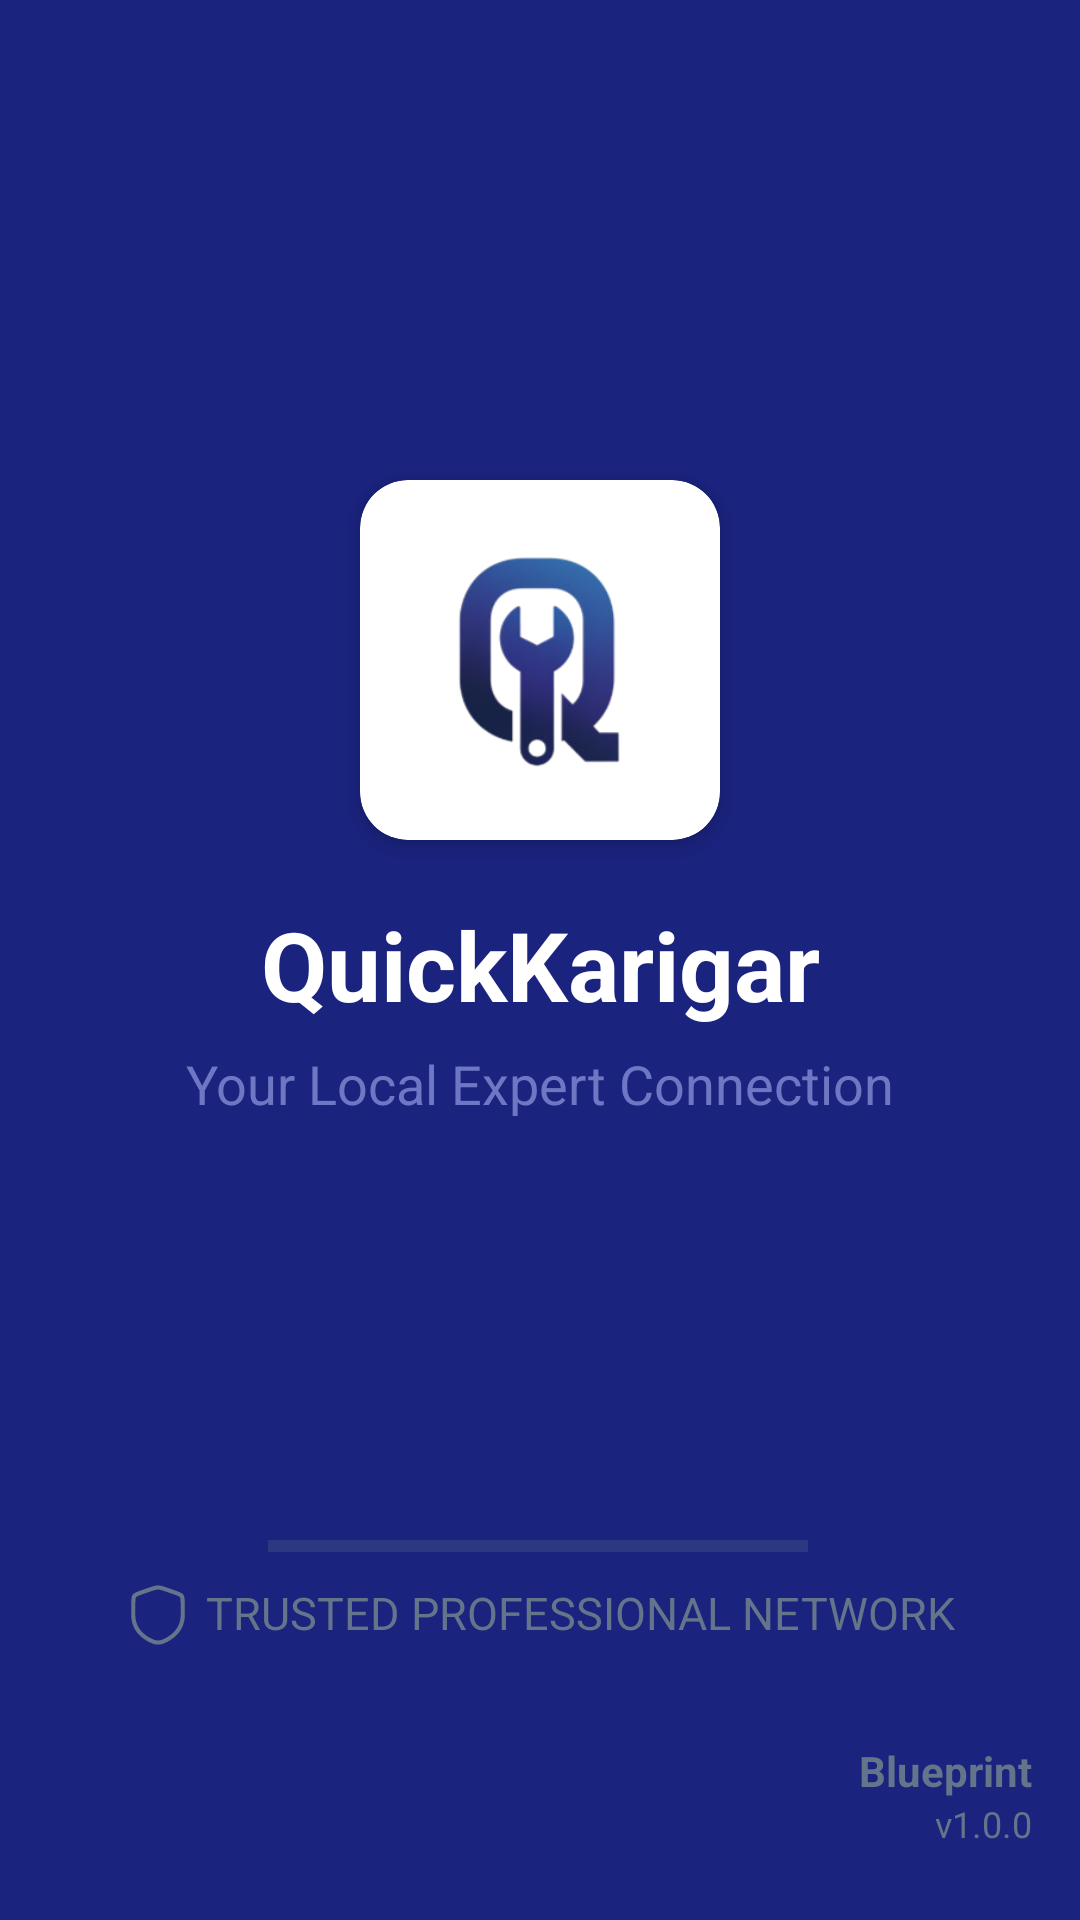

Screen size 1080x1920. Icon name, then its center in pixels as point (x, y):
shield: point (158, 1615)
